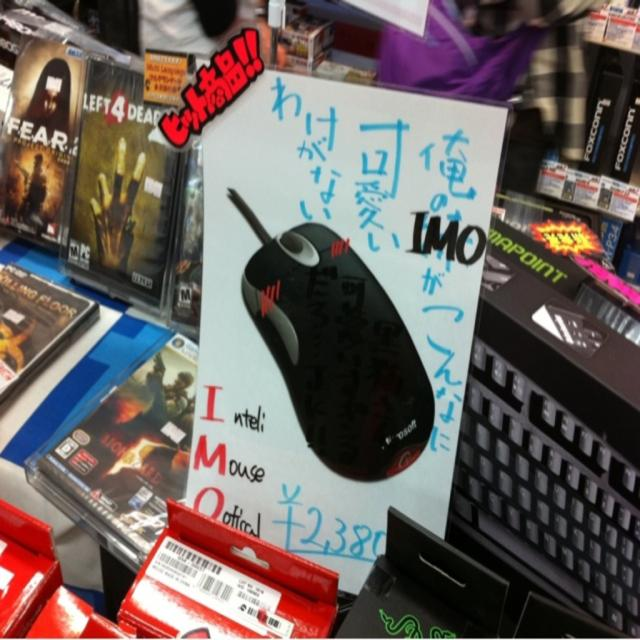Computer mouse: (241, 219, 433, 477)
